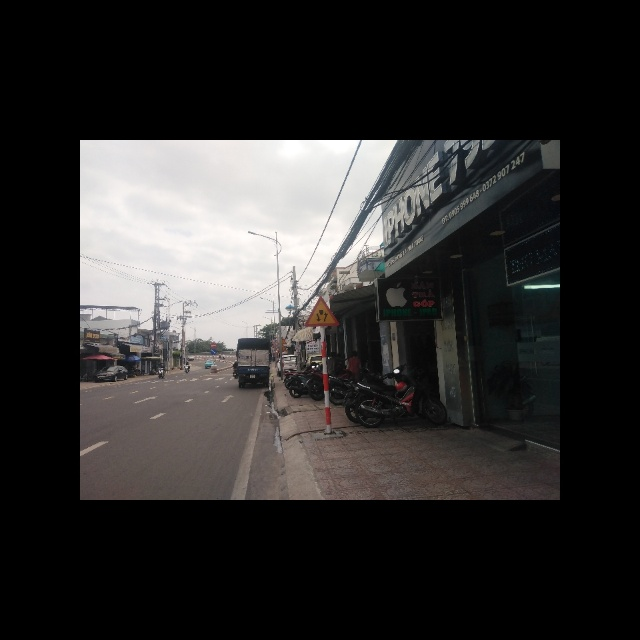Đường đôi: (305, 294, 338, 326)
